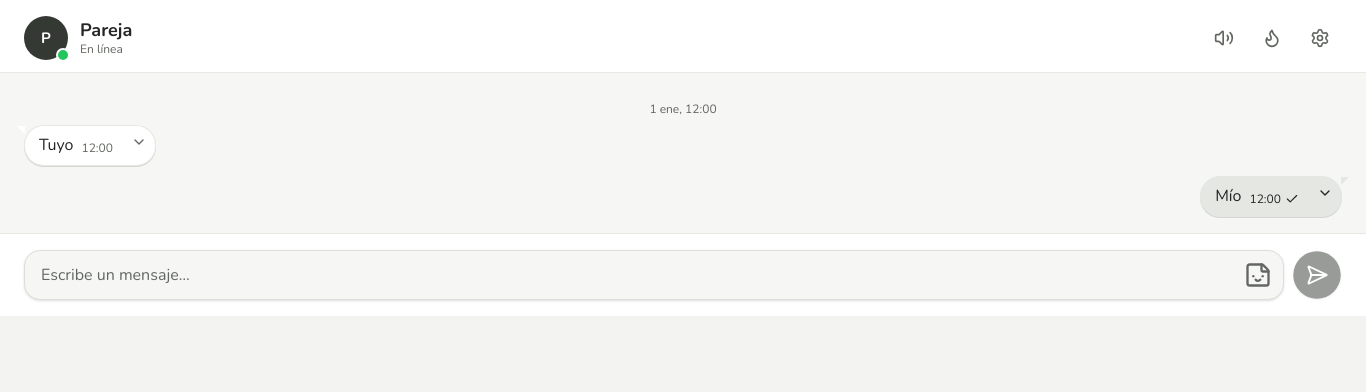
Test: edición de mensajes propios (no los recibidos) › ChatPanel sólo expone edición en mensajes propios
Click the button named "opciones del mensaje" in the row of "Tuyo" at (139, 142), box [127,130,151,154]
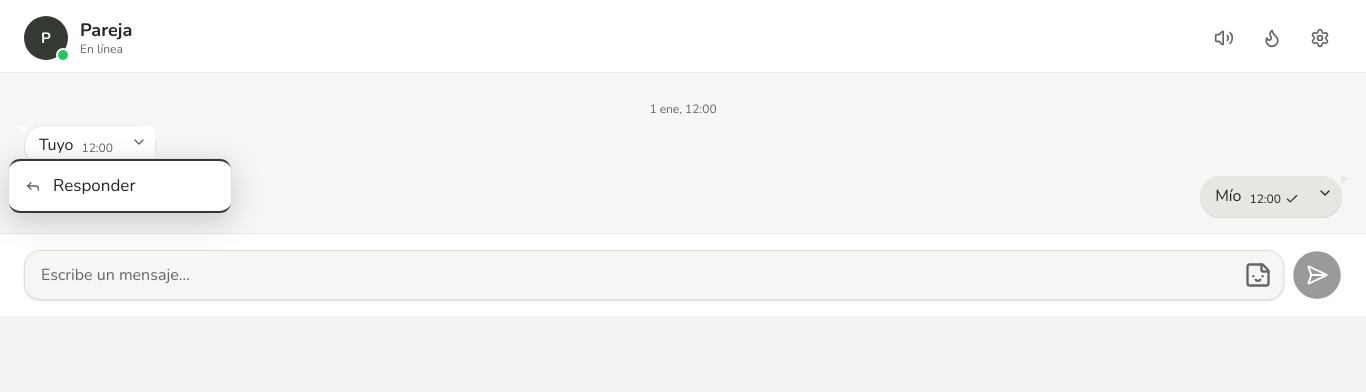
Press Escape
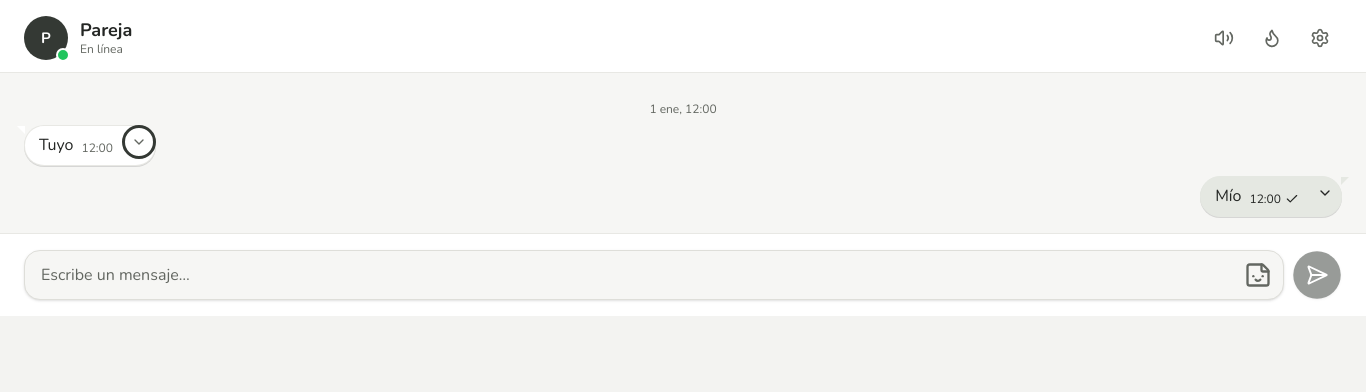
Click the button named "opciones del mensaje" in the row of "Mío" at (1325, 193), box [1313,181,1337,205]
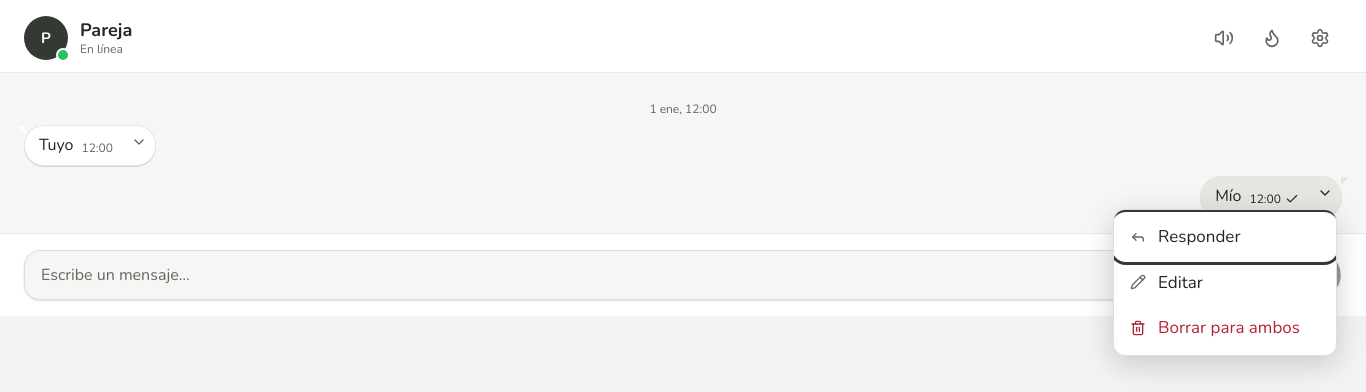
Expected: the button with aria-label "editar mensaje" is shown, [1114,260,1336,305]
